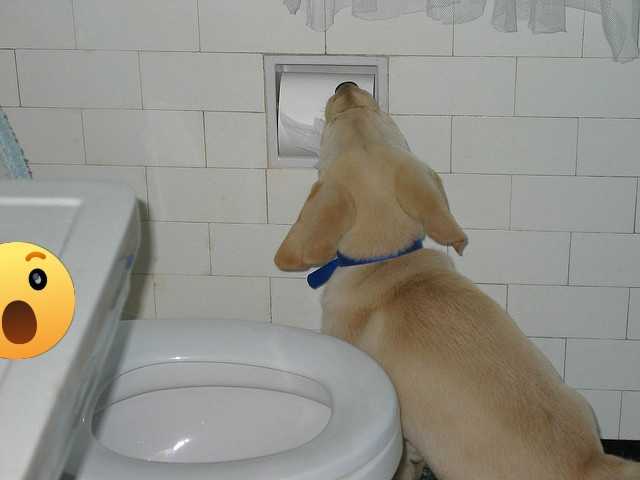wow: (0, 242, 75, 359)
